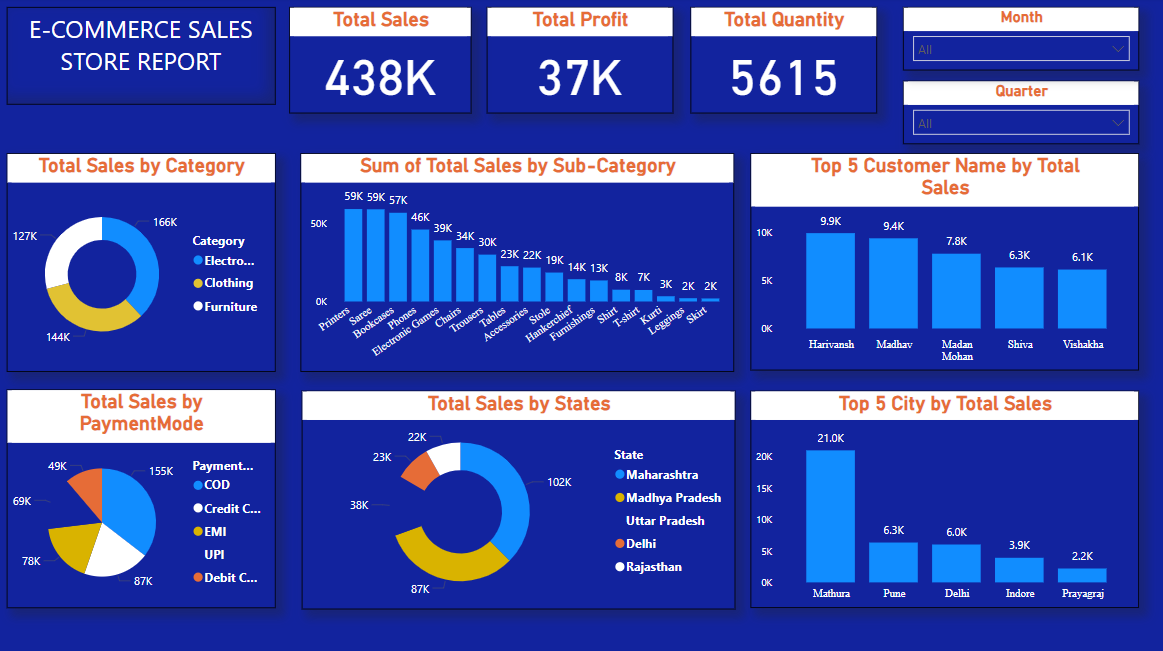

The page's visual inventory and layout, read from the dashboard file:
{"tool":"powerbi","page":{"name":"Page 1","canvas":[1280,720],"ordinal":0},"visuals":[{"type":"textbox","box":[9.6,11,295,107],"z":0},{"type":"card","title":"Total Sales","fields":{"Values":["E-commerse dataset.Total Sales"]},"box":[319.7,11,200.3,116.6],"z":1000},{"type":"card","title":"Total Profit","fields":{"Values":["E-commerse dataset.Profit"]},"box":[536.5,11,204.5,116.6],"z":2000},{"type":"card","title":"Total Quantity","fields":{"Values":["E-commerse dataset.Quantity"]},"box":[760.2,11,204.5,116.6],"z":3000},{"type":"slicer","title":"Quarter","fields":{"Values":["E-commerse dataset (2).Order Date.Variation.Date Hierarchy.Quarter"]},"box":[993.5,91.9,259.3,70],"z":4000},{"type":"slicer","title":"Month","fields":{"Values":["E-commerse dataset (2).Order Date.Variation.Date Hierarchy.Month"]},"box":[993.5,11,259.3,70],"z":5000},{"type":"donutChart","title":"Total Sales by Category","fields":{"Y":["E-commerse dataset.Total Sales"],"Category":["E-commerse dataset.Category"]},"box":[9.6,171.5,295,240.1],"z":6000},{"type":"clusteredColumnChart","fields":{"Y":["E-commerse dataset.Total Sales"],"Category":["E-commerse dataset.Sub-Category"]},"box":[332.1,171.5,476.2,240.1],"z":7000},{"type":"columnChart","title":"Top 5 Customer Name by Total Sales","fields":{"Category":["E-commerse dataset (2).CustomerName"],"Y":["E-commerse dataset.Total Sales"]},"box":[826.1,171.5,426.8,238.8],"z":8000},{"type":"pieChart","title":" Total Sales by PaymentMode","fields":{"Y":["E-commerse dataset.Total Sales"],"Category":["E-commerse dataset.PaymentMode"]},"box":[10,431,295,240],"z":9000},{"type":"donutChart","title":" Total Sales by States","fields":{"Category":["E-commerse dataset (2).State"],"Y":["E-commerse dataset.Total Sales"]},"box":[333.4,432.2,476.2,240.1],"z":10000},{"type":"columnChart","title":"Top 5 City by Total Sales","fields":{"Category":["E-commerse dataset (2).City"],"Y":["E-commerse dataset.Total Sales"]},"box":[826.1,432.2,426.8,238.8],"z":11000}]}

Visuals, with their boxes in screenshot pixels (x1, y1, x2, y2), scaled from the page's 1280x720 canvas onto the 1163x651 screenshot:
textbox: bbox(9, 10, 277, 107)
"Total Sales" card: bbox(290, 10, 472, 115)
"Total Profit" card: bbox(487, 10, 673, 115)
"Total Quantity" card: bbox(691, 10, 877, 115)
"Quarter" slicer: bbox(903, 83, 1138, 146)
"Month" slicer: bbox(903, 10, 1138, 73)
"Total Sales by Category" donutChart: bbox(9, 155, 277, 372)
clusteredColumnChart - E-commerse dataset.Total Sales x E-commerse dataset.Sub-Category: bbox(302, 155, 734, 372)
"Top 5 Customer Name by Total Sales" columnChart: bbox(751, 155, 1138, 371)
" Total Sales by PaymentMode" pieChart: bbox(9, 390, 277, 607)
" Total Sales by States" donutChart: bbox(303, 391, 736, 608)
"Top 5 City by Total Sales" columnChart: bbox(751, 391, 1138, 607)
